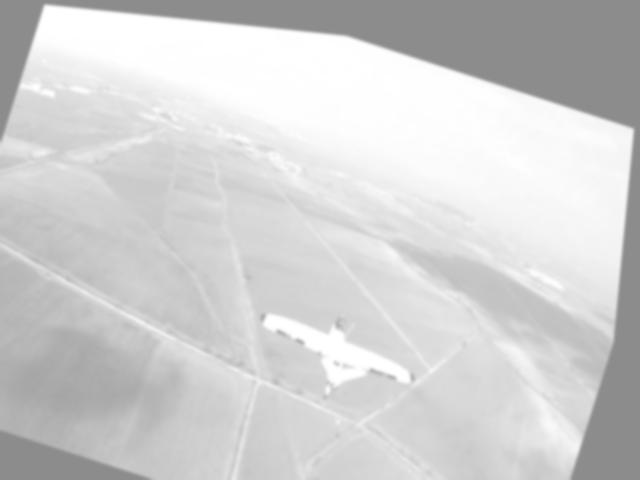hedef: (245, 272, 441, 414)
